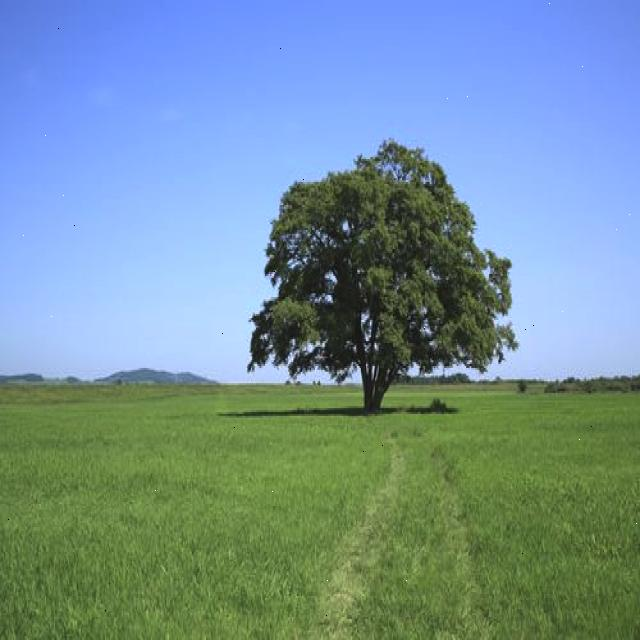Tree: (246, 129, 519, 417)
